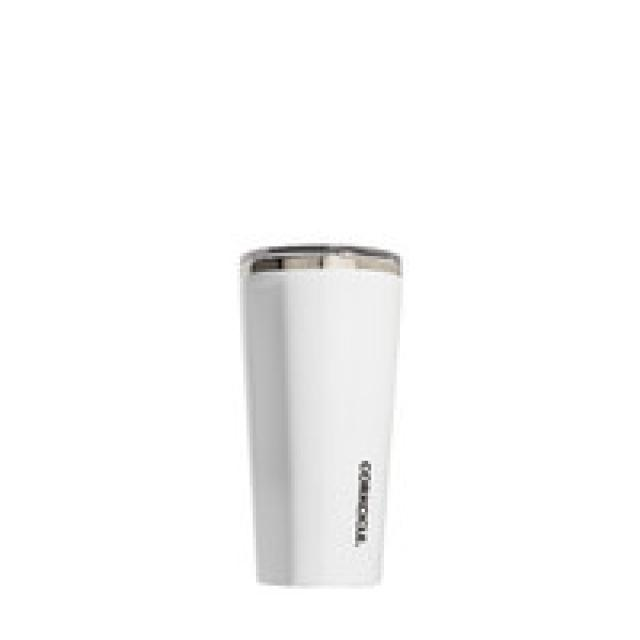bottle: (239, 243, 403, 589)
